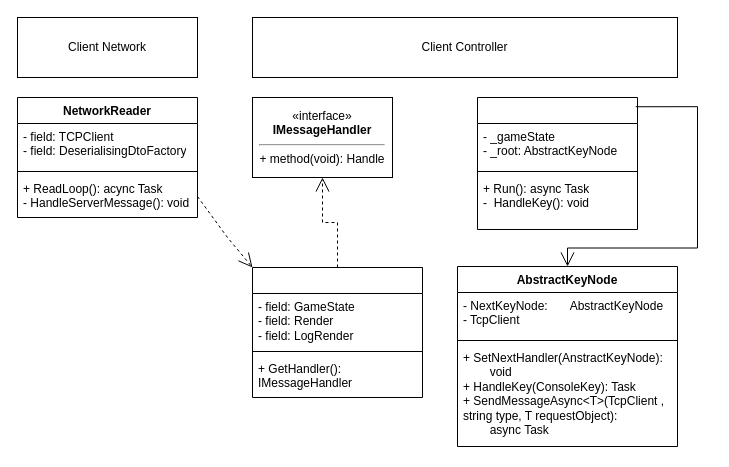
Image size: 729x467. Some labels were removed from this diagram. Each missing label, with the box of its shape:
DeserialisingDTOFactory: (252, 266, 422, 398)
KeyController: (476, 96, 638, 230)
